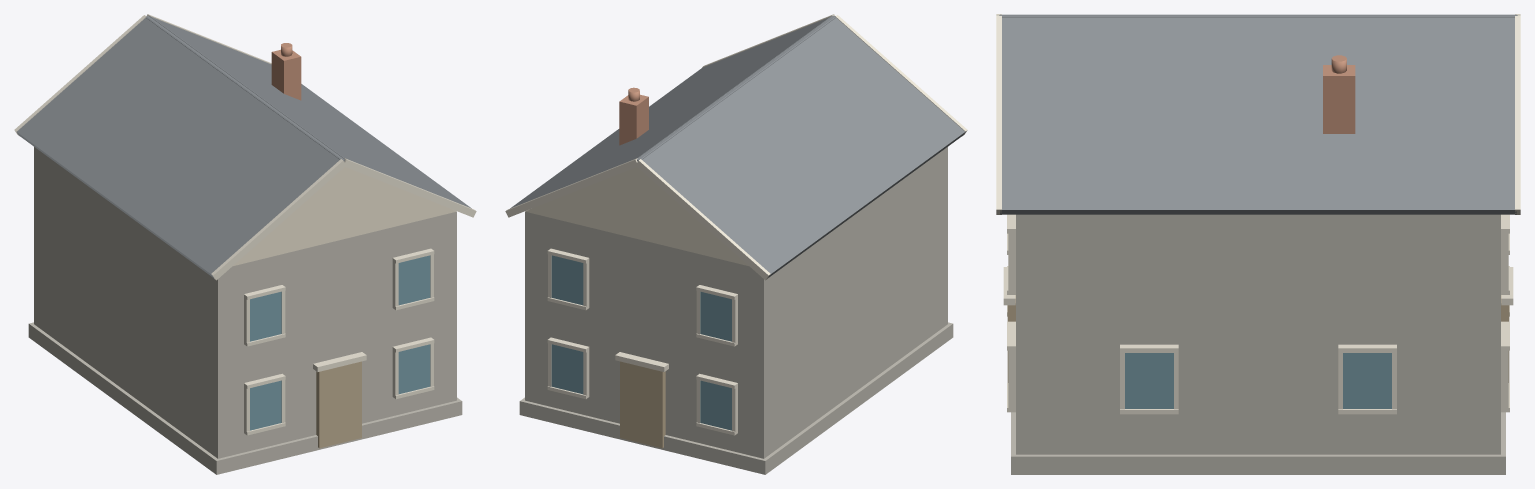
File: rhine-stone-house_lod1.glb
3 views of the same model, side by side, from view 1: azimuth 30°, elevation 25°; view 2: azimuth 150°, elevation 25°; view 3: azimuth 270°, elevation 25° (orthographic). The views are drawn at different scales.
Parts seen in each view (by area): view 1: RF_Body, RF_Roof.001, RF_Gable, RF_Roof, RF_Foundation, RF_Door.001, RF_Vergeband.001, RF_Window.003, RF_Window.004, RF_Window.002, RF_Window.001, RF_Chimney (+4 smaller); view 2: RF_Body, RF_Roof.001, RF_Gable.001, RF_Roof, RF_Foundation, RF_Door, RF_Vergeband.002, RF_Window.007, RF_Window.008, RF_Window.006, RF_Window.005, RF_Chimney (+4 smaller); view 3: RF_Body, RF_Roof, RF_Foundation, RF_Window.009, RF_Window, RF_Chimney, RF_Ridge, RF_Vergeband, RF_Vergeband.003, RF_Roof.001, RF_WindowFrame.016, RF_WindowFrame.008.
Boxes of the visible parts, x1,y1,x2,y2 form: RF_Body: [34, 147, 456, 458]; RF_Roof.001: [17, 17, 340, 278]; RF_Gable: [233, 167, 456, 265]; RF_Roof: [149, 16, 471, 208]; RF_Foundation: [28, 322, 462, 474]; RF_Door.001: [316, 361, 361, 448]; RF_Vergeband.001: [211, 159, 346, 280]; RF_Window.003: [398, 344, 430, 394]; RF_Window.004: [398, 255, 430, 305]; RF_Window.002: [250, 291, 281, 341]; RF_Window.001: [250, 380, 281, 430]; RF_Chimney: [271, 49, 301, 100]; RF_Body: [525, 147, 947, 458]; RF_Roof.001: [641, 17, 965, 277]; RF_Gable.001: [525, 167, 748, 265]; RF_Roof: [510, 16, 832, 208]; RF_Foundation: [519, 322, 953, 474]; RF_Door: [620, 361, 665, 448]; RF_Vergeband.002: [636, 159, 770, 280]; RF_Window.007: [551, 344, 583, 394]; RF_Window.008: [551, 255, 583, 305]; RF_Window.006: [700, 291, 731, 341]; RF_Window.005: [700, 380, 731, 430]; RF_Chimney: [619, 94, 648, 145]; RF_Body: [1016, 214, 1500, 454]; RF_Roof: [1000, 16, 1516, 214]; RF_Foundation: [1011, 412, 1505, 474]; RF_Window.009: [1125, 353, 1173, 408]; RF_Window: [1343, 353, 1391, 408]; RF_Chimney: [1323, 65, 1355, 133]; RF_Ridge: [999, 15, 1517, 17]; RF_Vergeband: [1515, 16, 1520, 214]; RF_Vergeband.003: [996, 16, 1001, 214]; RF_Roof.001: [1000, 14, 1516, 15]; RF_WindowFrame.016: [1501, 227, 1508, 294]; RF_WindowFrame.008: [1008, 227, 1015, 294].
Size of the model in its own units: 9.93 by 10.47 by 12.98.
